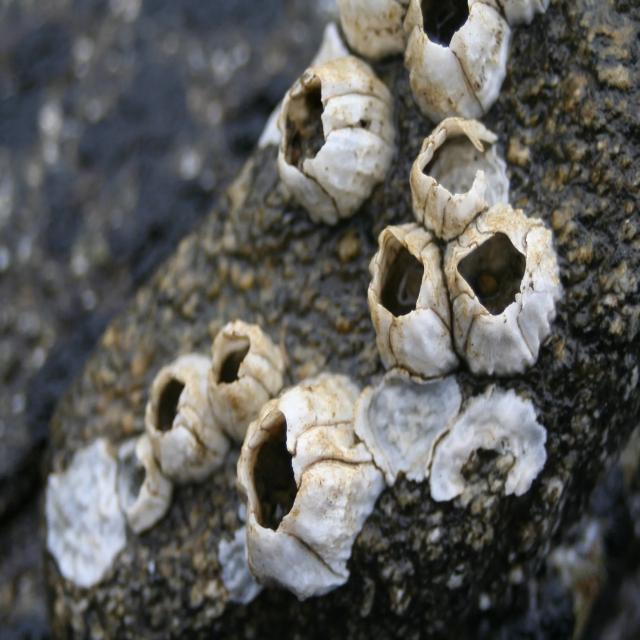barnacles: (234, 379, 378, 604), (271, 58, 397, 224), (444, 220, 566, 382), (364, 202, 457, 390), (396, 0, 514, 128), (409, 120, 517, 234), (146, 352, 233, 488), (210, 322, 282, 436)
